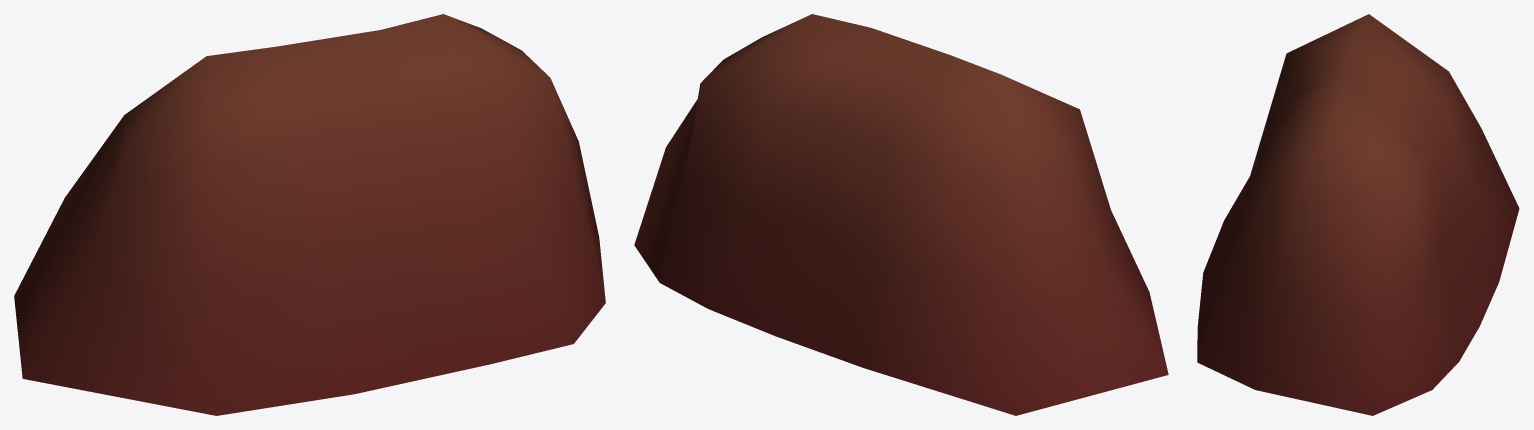
File: Mountain_big.032.fbx
3 renders of one model, left to right at view 1: azimuth 30°, elevation 25°; view 2: azimuth 150°, elevation 25°; view 3: azimuth 270°, elevation 25°, orthographic. The views are drawn at different scales.
Visible parts, largest first — view 1: Mountain_big.032; view 2: Mountain_big.032; view 3: Mountain_big.032.
Part boxes in pixels (x1,y1,x2,y2): Mountain_big.032: [14, 14, 605, 415]; Mountain_big.032: [634, 14, 1168, 415]; Mountain_big.032: [1197, 14, 1519, 415].
Size of the model in its own units: 457 by 211 by 259.
